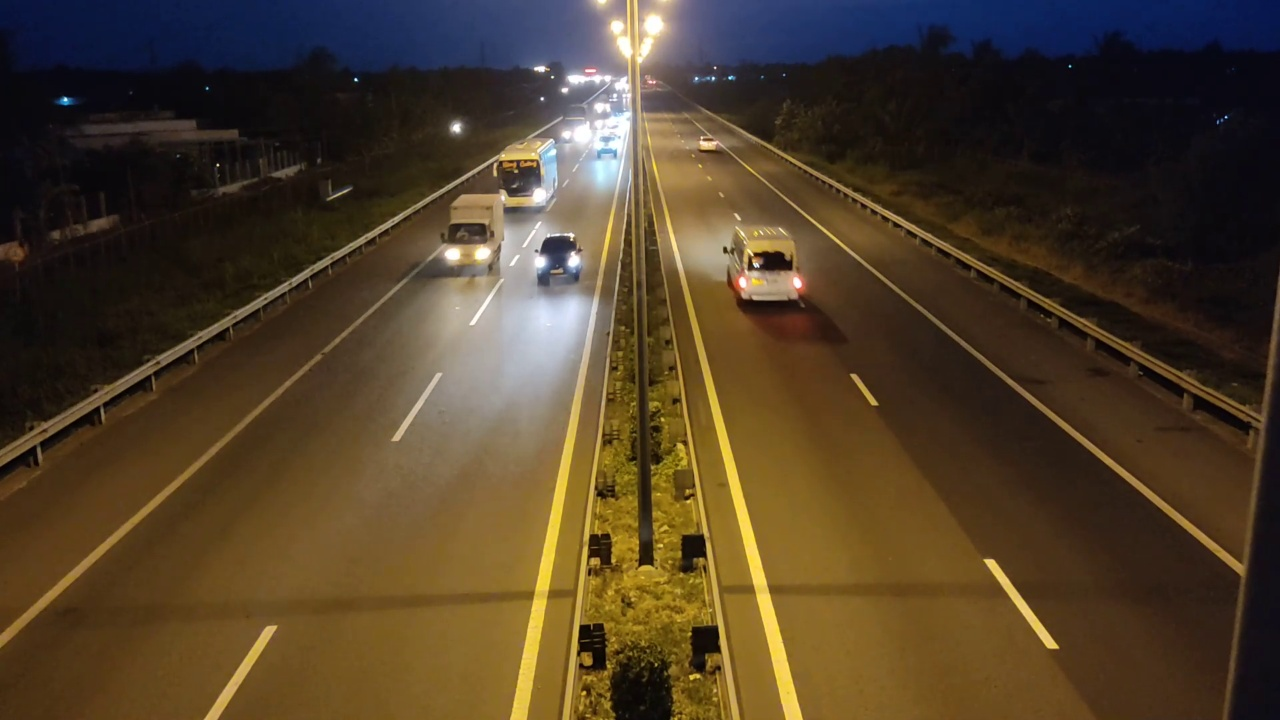bus: (495, 137, 561, 210)
car: (722, 221, 801, 310), (533, 233, 584, 285), (697, 136, 721, 153)
truck: (438, 186, 506, 275)
